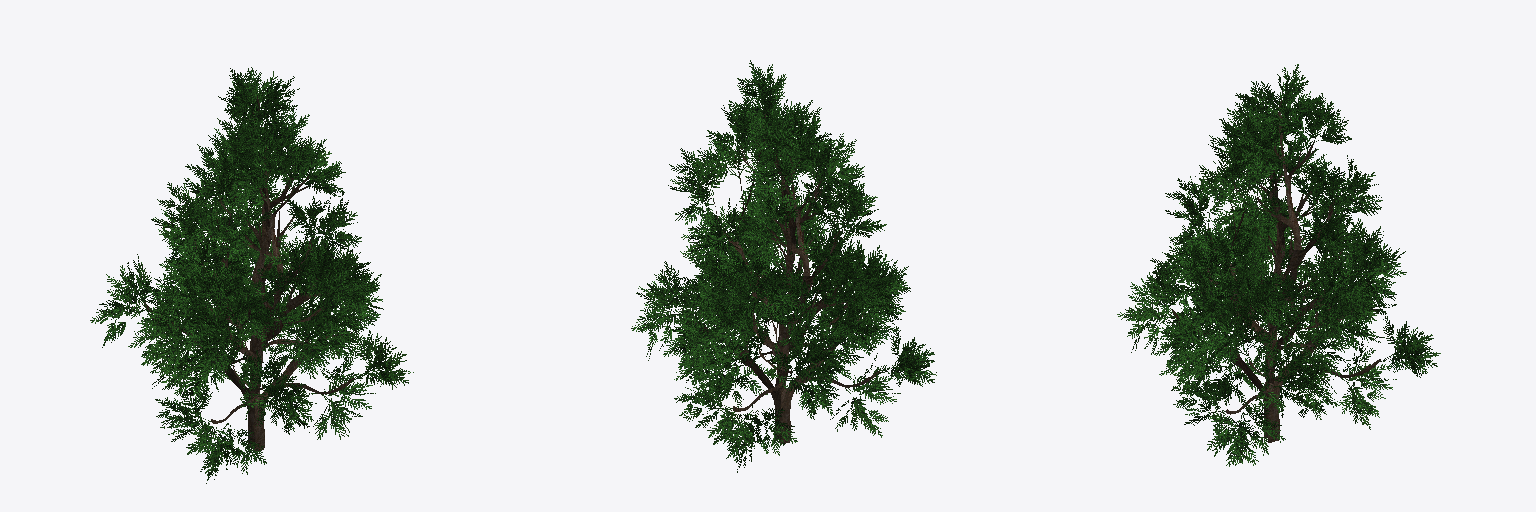
3 views of the same model, side by side, from view 1: azimuth 30°, elevation 25°; view 2: azimuth 150°, elevation 25°; view 3: azimuth 270°, elevation 25° (orthographic).
Parts seen in each view (by area): view 1: Leaves, Bark.001; view 2: Leaves, Bark.001; view 3: Leaves, Bark.001.
Part boxes in pixels (x1,y1,x2,y2): Leaves: (90,67,413,483); Bark.001: (144,96,354,450); Leaves: (631,60,936,472); Bark.001: (682,114,879,443); Leaves: (1117,64,1440,466); Bark.001: (1172,99,1380,442).
Bounding box in the file's own units: 15.66 × 21.73 × 17.29.
Materials: 2 (2 with a texture image).